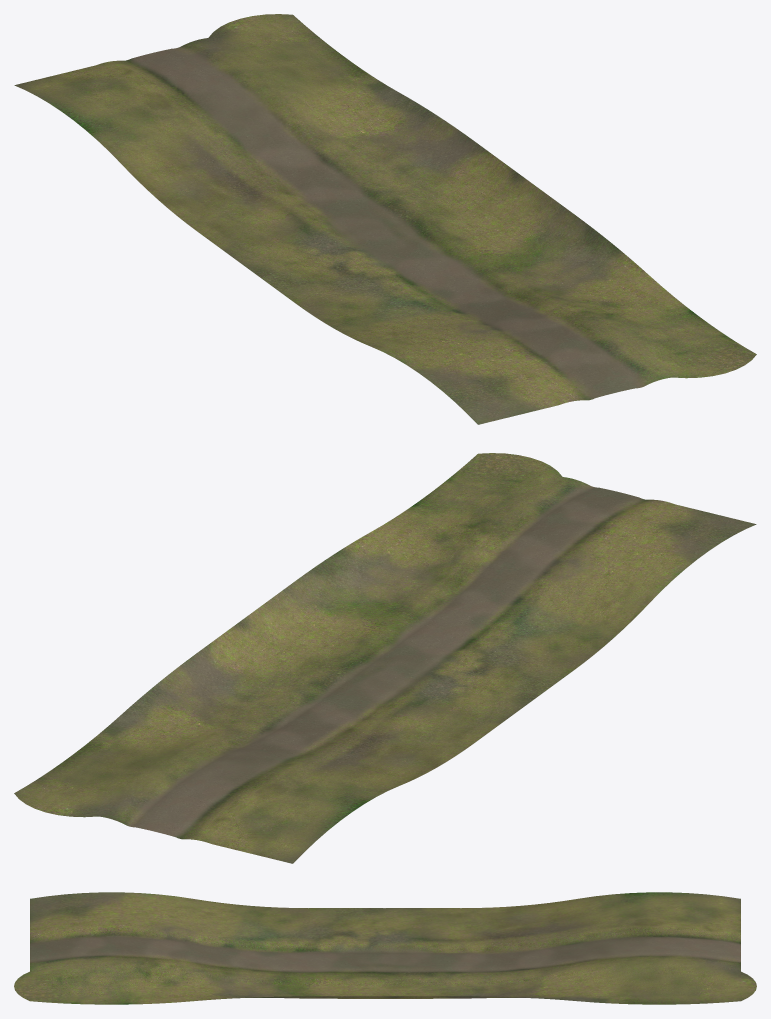
Rendered from dirt_road_test.glb.
The picture shows the model from 3 angles, top to bottom: view 1: azimuth 30°, elevation 25°; view 2: azimuth 150°, elevation 25°; view 3: azimuth 270°, elevation 25°; orthographic projection. The views are drawn at different scales.
Visible parts, largest first — view 1: Object_2; view 2: Object_2; view 3: Object_2.
Boxes of the visible parts, x1,y1,x2,y2 form: Object_2: (14,14,756,424); Object_2: (14,453,756,863); Object_2: (14,892,756,1004).
Size of the model in its own units: 55.54 by 4.5 by 167.
1 material, 1 textured.
